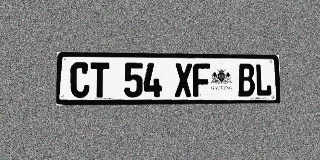4: (143, 63, 162, 97)
5: (124, 63, 143, 97)
B: (238, 64, 255, 97)
C: (70, 62, 90, 98)
F: (193, 63, 210, 97)
L: (255, 64, 272, 96)
T: (90, 62, 109, 98)
X: (175, 63, 192, 97)
